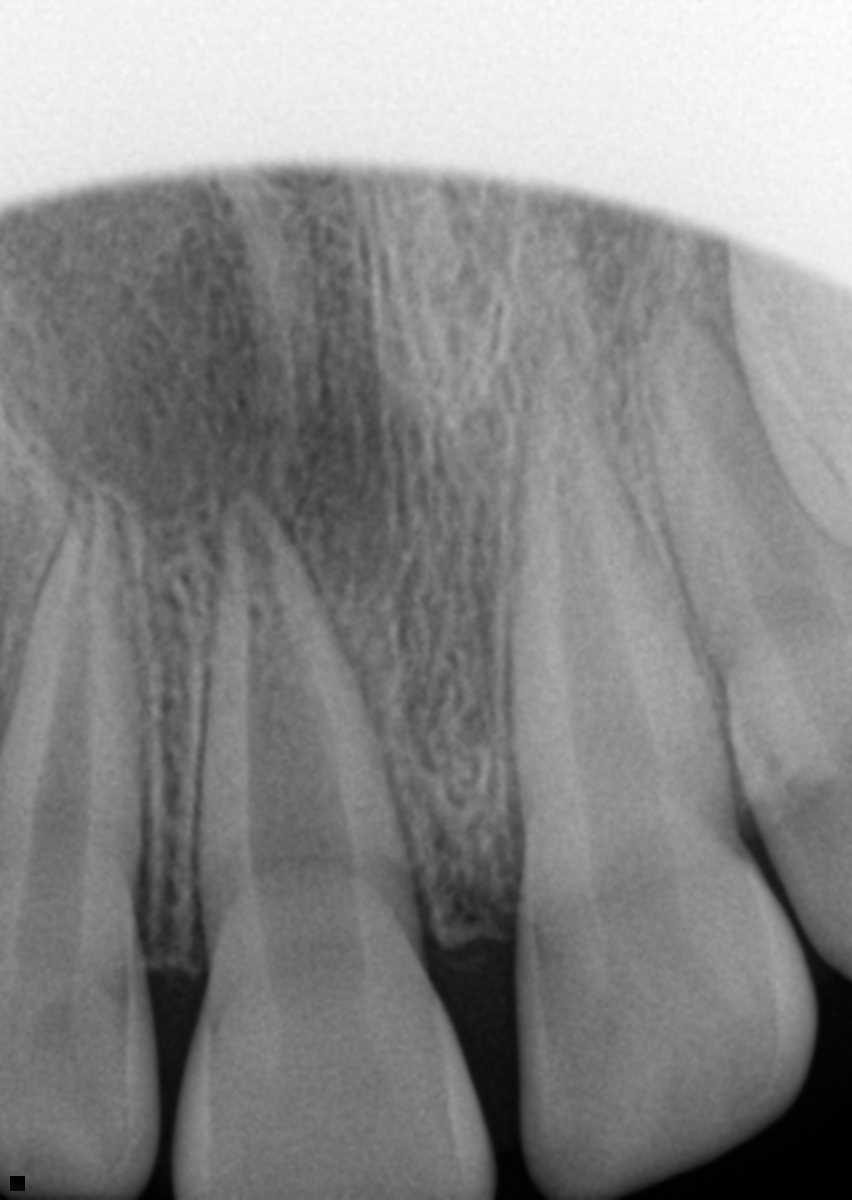Apical Lesion: (87, 213, 423, 604)
Main Canal: (676, 321, 852, 727), (552, 360, 672, 877), (239, 512, 359, 950), (10, 487, 99, 937)
Main Root: (503, 332, 743, 898), (184, 501, 428, 953), (640, 300, 852, 793), (0, 475, 148, 955)
